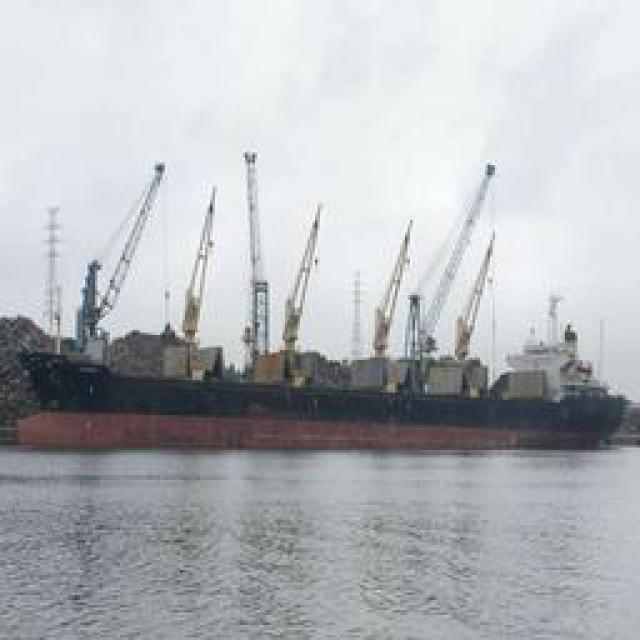Ship: (12, 155, 640, 443)
